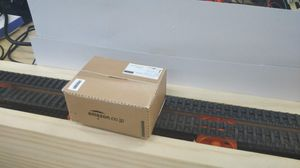box1: (59, 54, 168, 139)
